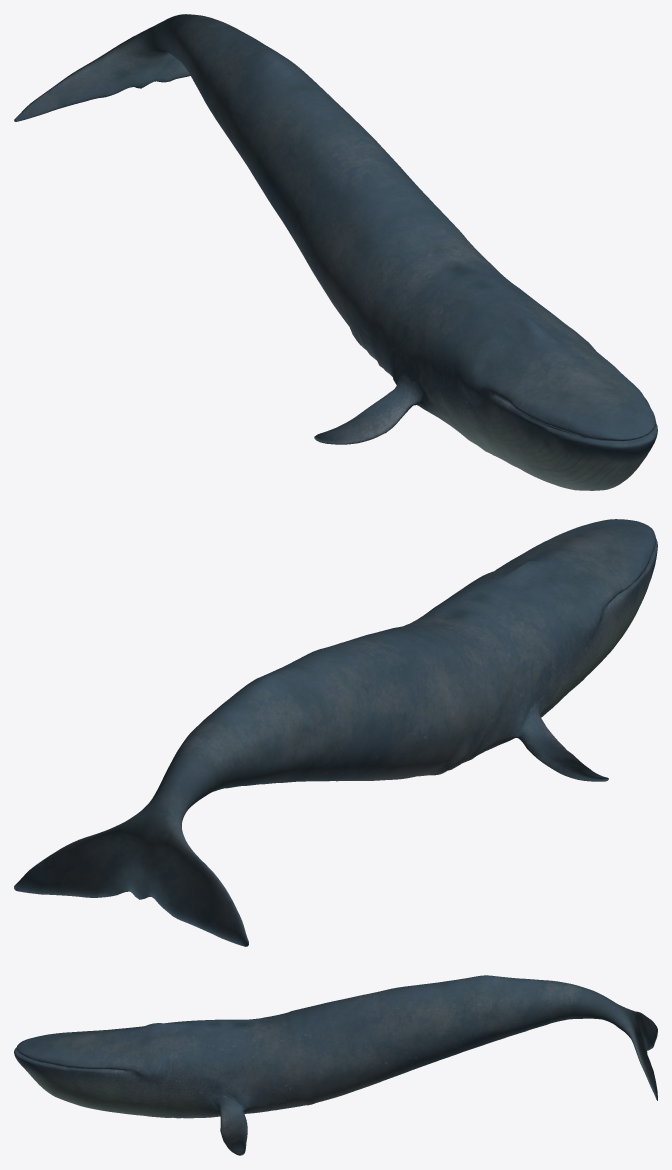
File: blue-whale.obj
3 views of the same model, one above another, from view 1: azimuth 30°, elevation 25°; view 2: azimuth 150°, elevation 25°; view 3: azimuth 270°, elevation 25° (orthographic). The views are drawn at different scales.
Parts seen in each view (by area): view 1: Object_7; view 2: Object_7; view 3: Object_7.
Boxes of the visible parts, x1,y1,x2,y2 form: Object_7: (14,14,657,490); Object_7: (14,519,657,946); Object_7: (14,975,657,1155).
Bounding box in the file's own units: 10.41 × 7.43 × 31.37.
